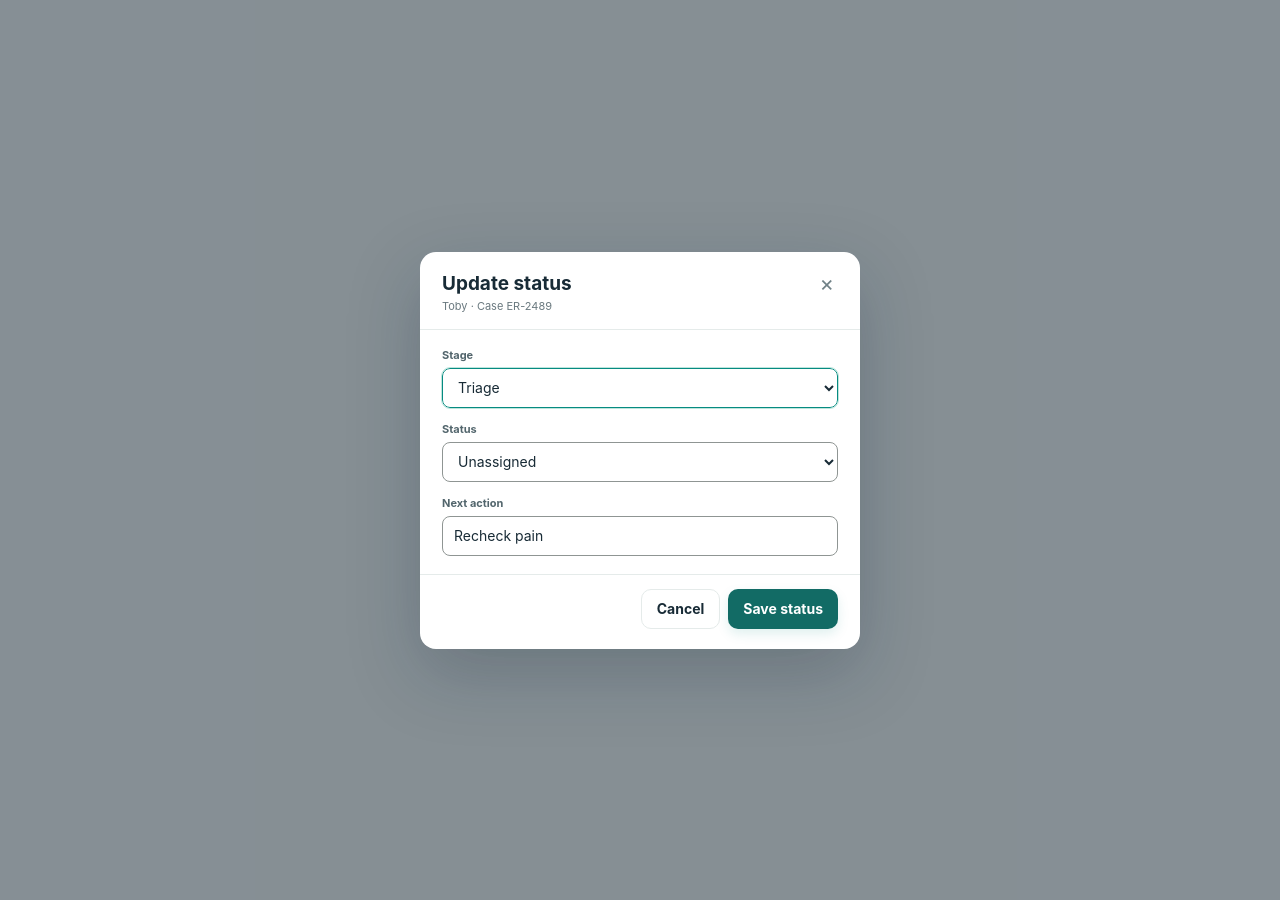
Test: UpdateStatusDialog › keeps the dialog open with a neutral message when the save fails
Replace the text in the field labelled "Next action" with "Keep this too". click: (640, 536)
box: x1=442 y1=516 x2=838 y2=556
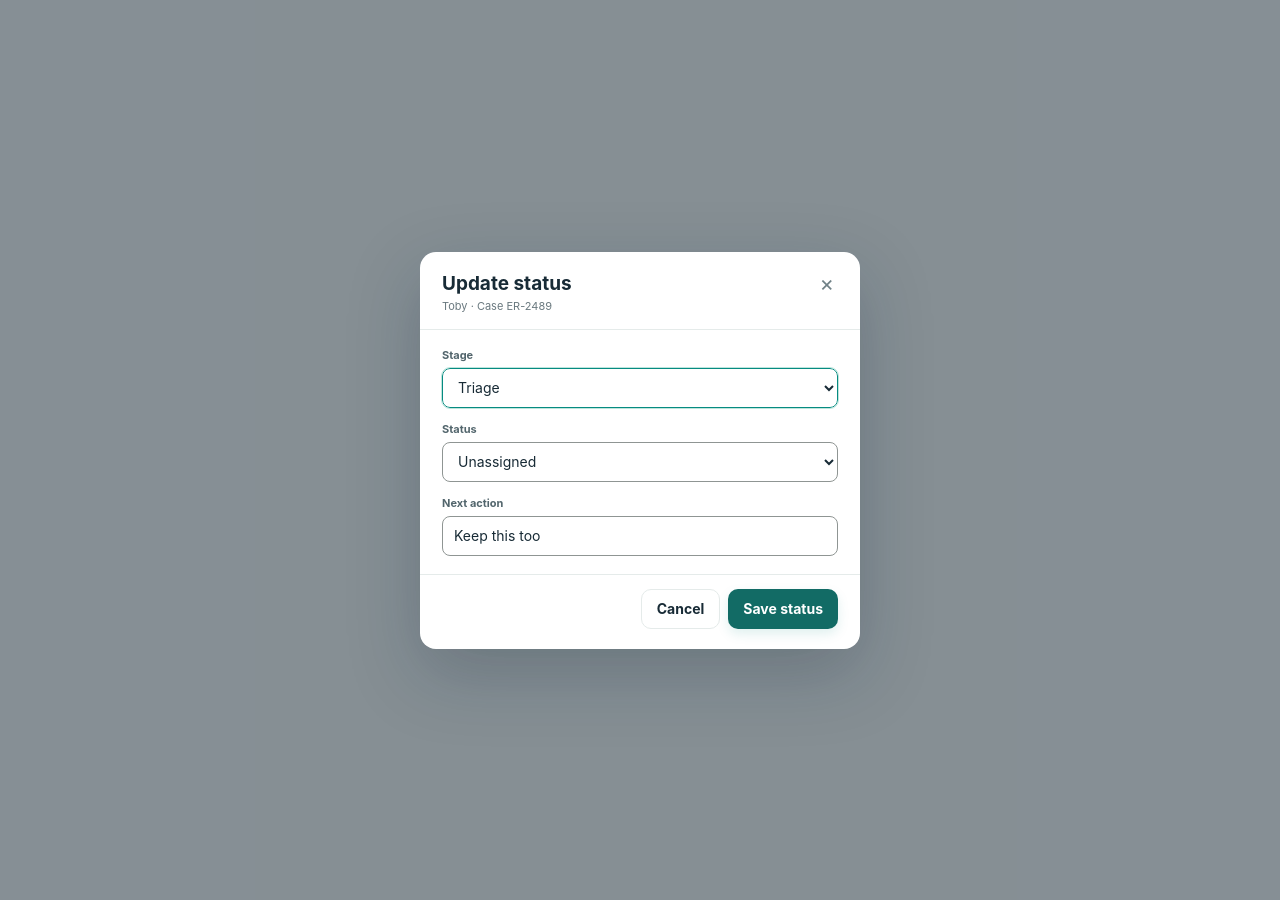
Click the button "Save status". click: (783, 608)
box: x1=728 y1=588 x2=838 y2=628
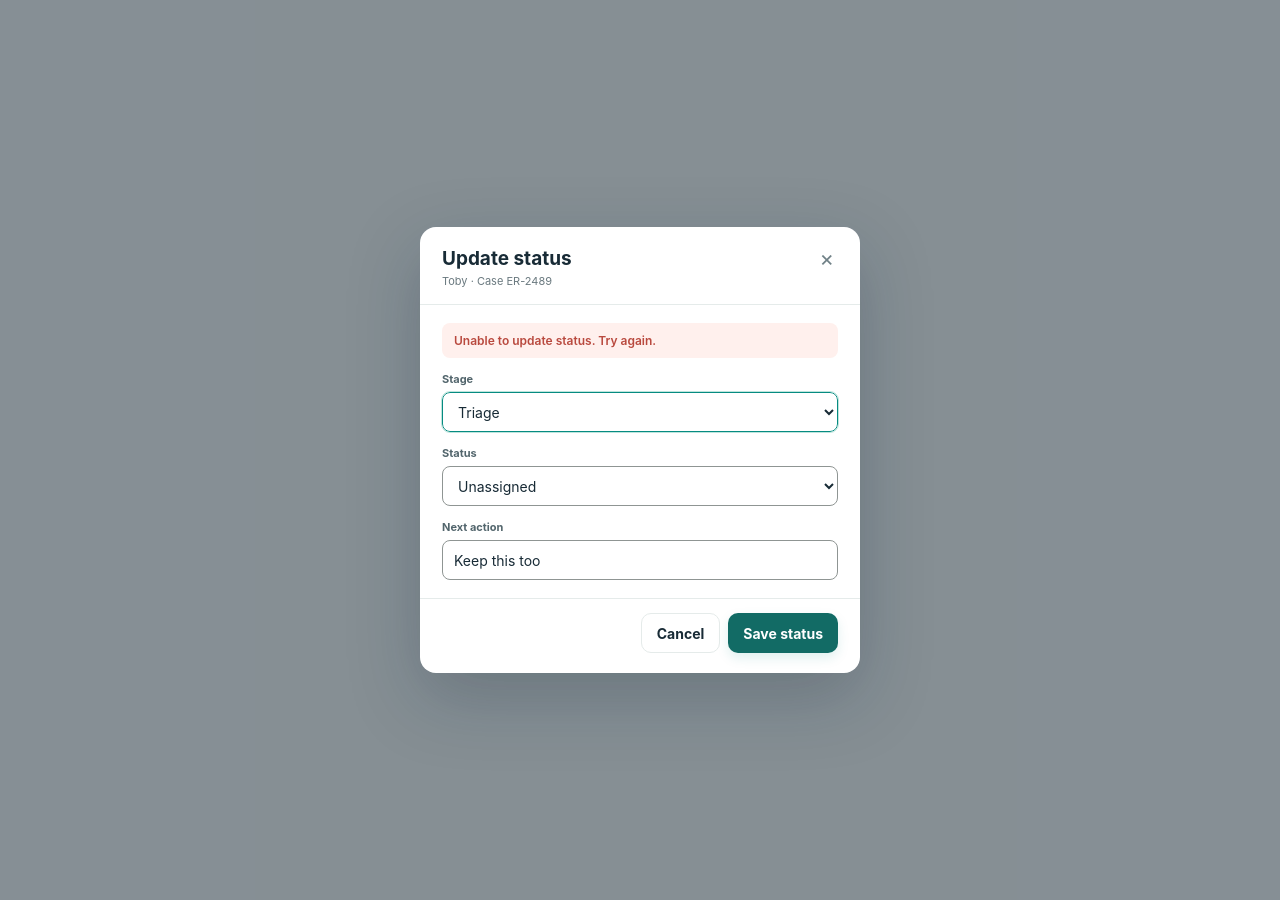
expect the button "Save status" is enabled: met, box x1=728 y1=613 x2=838 y2=653
expect the message reads "Unable to update status. Try again.": met, box x1=454 y1=333 x2=656 y2=348
